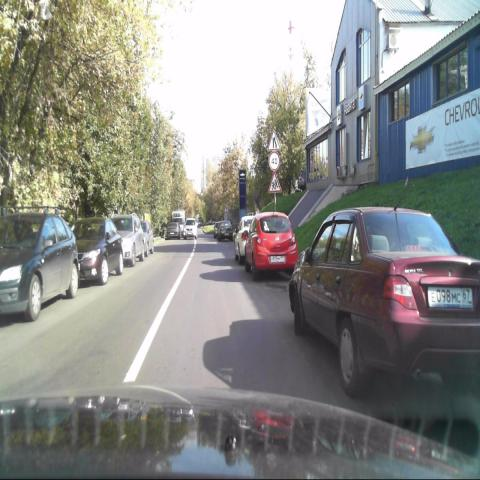1_20_2: (267, 128, 281, 151)
